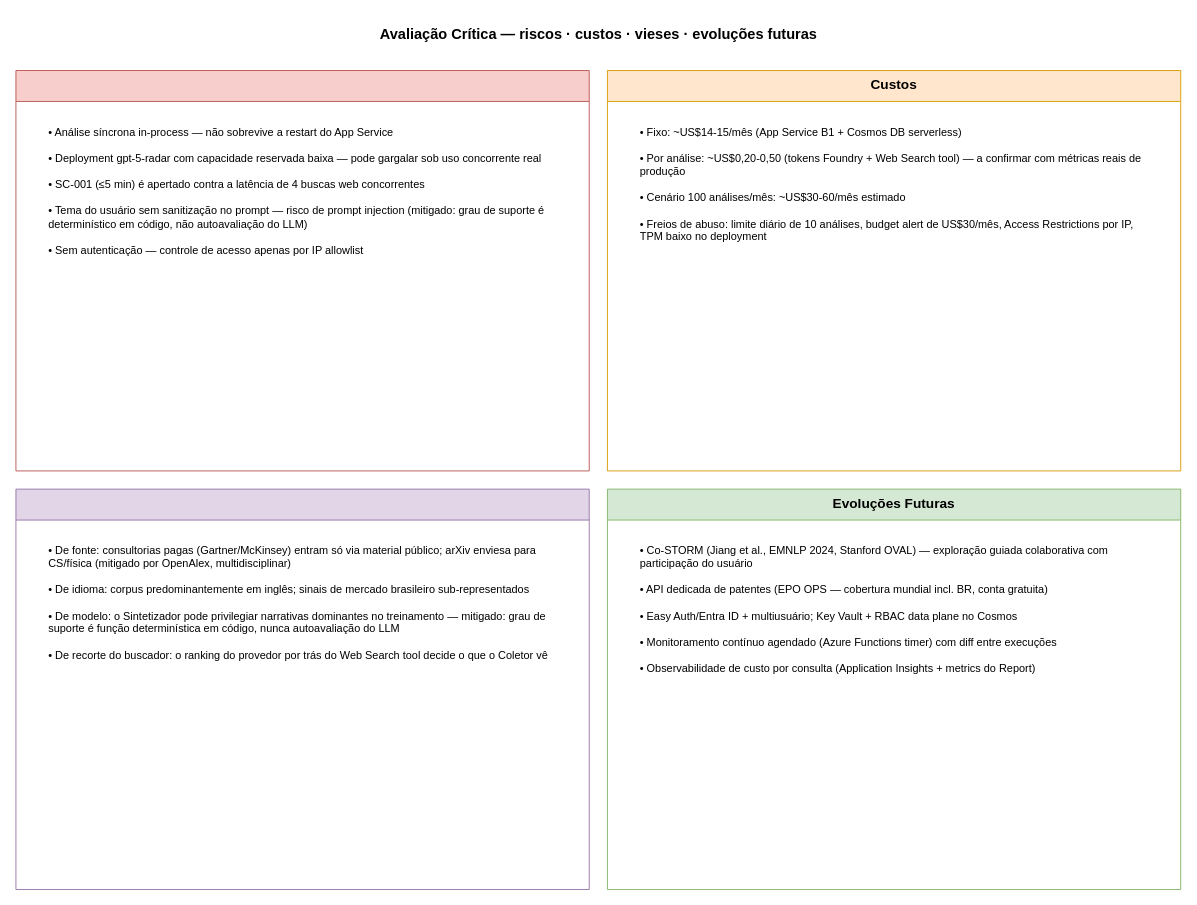
The diagram is 1197 pixels wide and 905 high, and some of its shapes have lost their labels. The box of each missing label's shape, as (x1, y1, x2, y2) in pixels:
Riscos: (15, 70, 589, 471)
Vieses: (15, 488, 589, 890)
